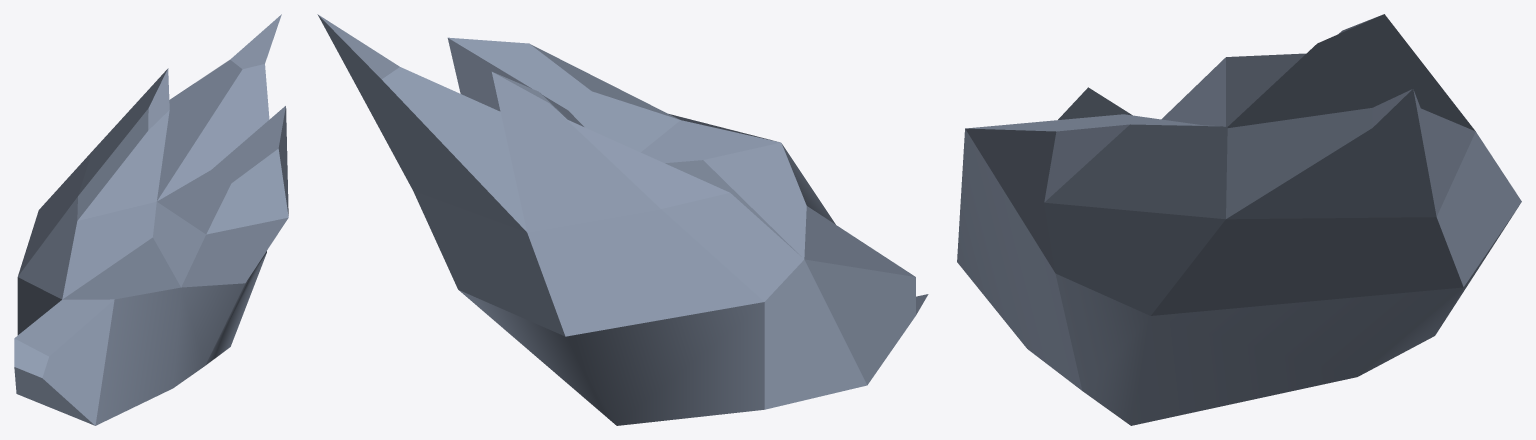
Rendered from Rock_Han_Winter.fbx.
3 renders of one model, left to right at view 1: azimuth 30°, elevation 25°; view 2: azimuth 150°, elevation 25°; view 3: azimuth 270°, elevation 25°, orthographic. The views are drawn at different scales.
Parts seen in each view (by area): view 1: Rock_Winter; view 2: Rock_Winter; view 3: Rock_Winter.
Part boxes in pixels (x1,y1,x2,y2): Rock_Winter: [14, 14, 288, 425]; Rock_Winter: [317, 14, 928, 425]; Rock_Winter: [957, 14, 1521, 425].
Bounding box in the file's own units: 0.0237 × 0.0156 × 0.0177.
